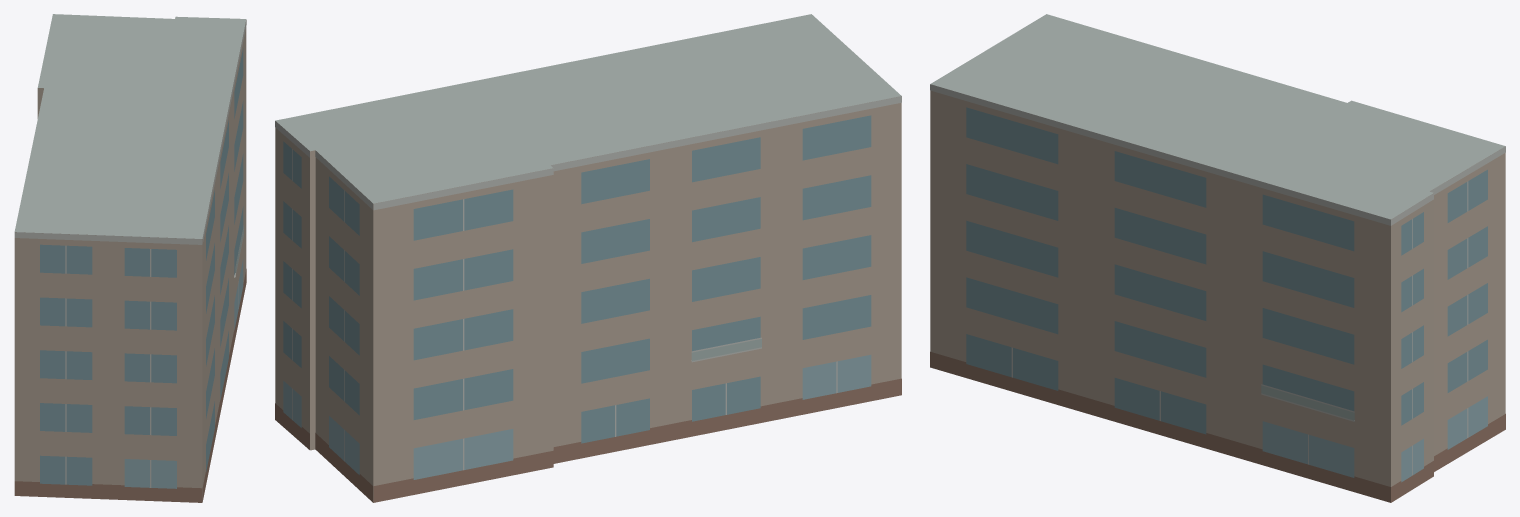
Rendered from survey-upis-32823735.glb.
3 views of the same model, side by side, from view 1: azimuth 30°, elevation 25°; view 2: azimuth 150°, elevation 25°; view 3: azimuth 270°, elevation 25° (orthographic). The views are drawn at different scales.
Parts seen in each view (by area): view 1: survey-upis-32823735.tmp; view 2: survey-upis-32823735.tmp; view 3: survey-upis-32823735.tmp.
Boxes of the visible parts, <box> form: survey-upis-32823735.tmp: <box>14,14,246,502</box>; survey-upis-32823735.tmp: <box>275,14,901,502</box>; survey-upis-32823735.tmp: <box>930,14,1505,502</box>.
Bounding box in the file's own units: 16.97 × 10.9 × 20.08.
